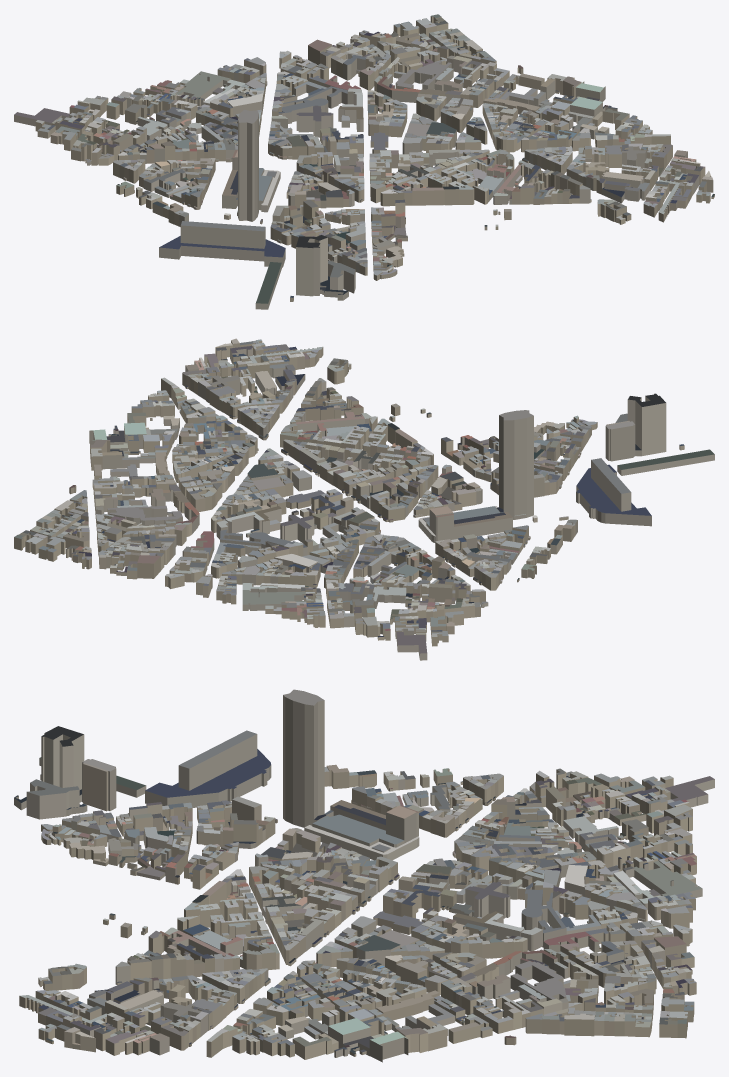
3 renders of one model, top to bottom at view 1: azimuth 30°, elevation 25°; view 2: azimuth 150°, elevation 25°; view 3: azimuth 270°, elevation 25°, orthographic. The views are drawn at different scales.
Visible parts, largest first — view 1: tuile; view 2: tuile; view 3: tuile.
Boxes of the visible parts, bbox=[...] form: tuile: bbox=[14, 14, 714, 309]; tuile: bbox=[14, 338, 714, 660]; tuile: bbox=[14, 689, 714, 1062].
Bounding box in the file's own units: 1120 × 230 × 1079.
